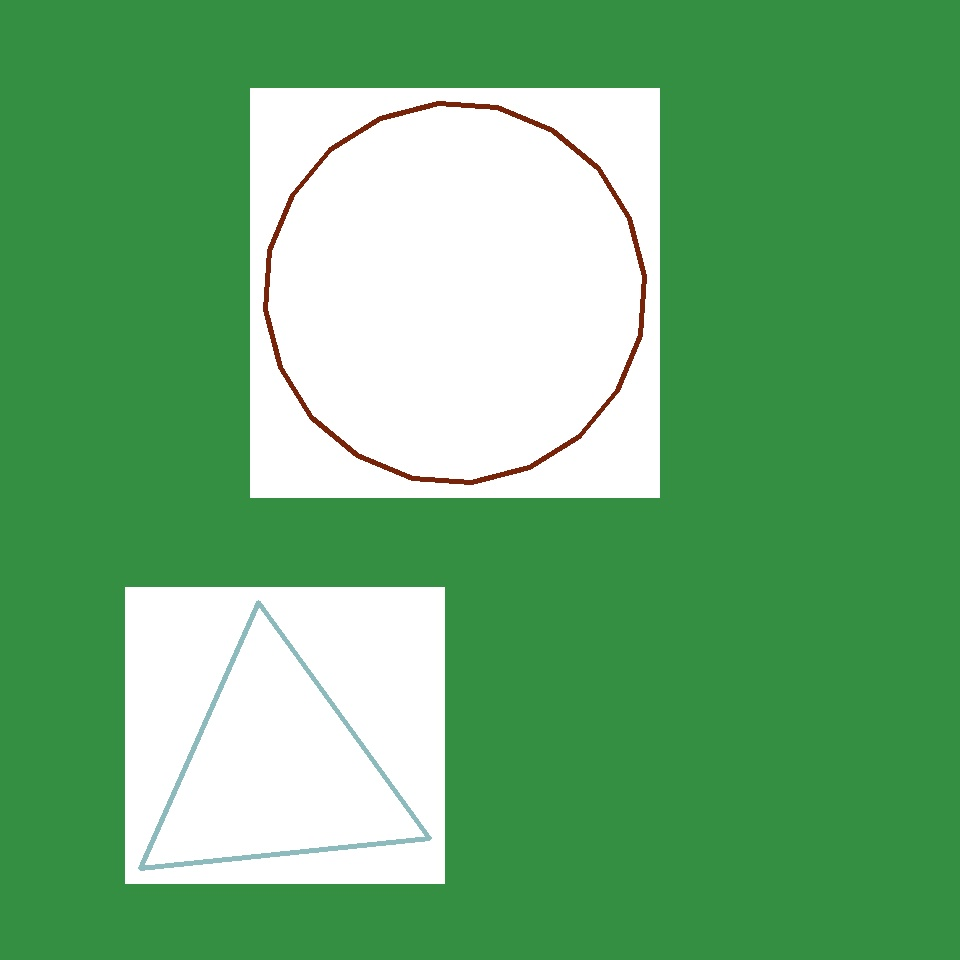circle: (132, 637, 420, 903), (643, 553, 867, 771)
square: (339, 385, 616, 662), (532, 602, 804, 876), (414, 412, 620, 620)
triangle: (266, 104, 644, 483), (448, 548, 622, 724), (273, 754, 400, 882)
